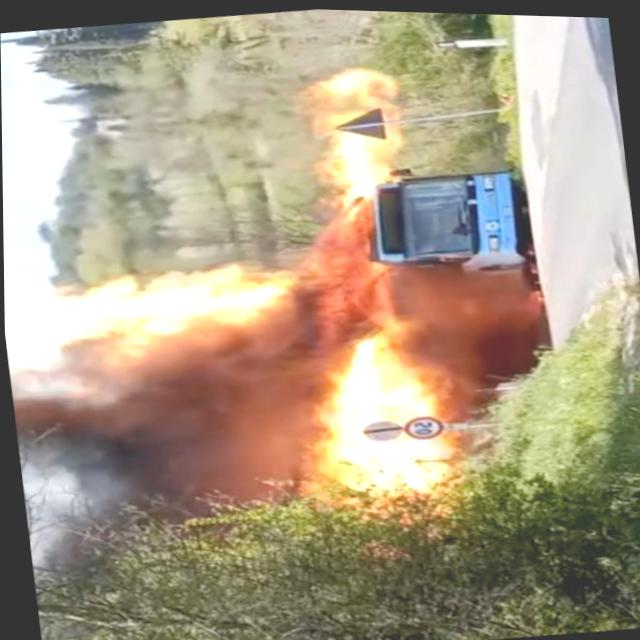Fire: (304, 338, 457, 534), (3, 252, 299, 352), (307, 70, 402, 205)
Smoke: (14, 361, 320, 583), (436, 276, 532, 381)
